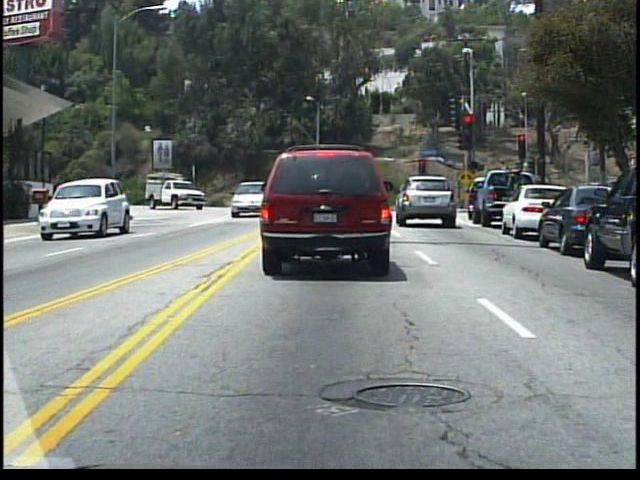person: (428, 181, 440, 210)
